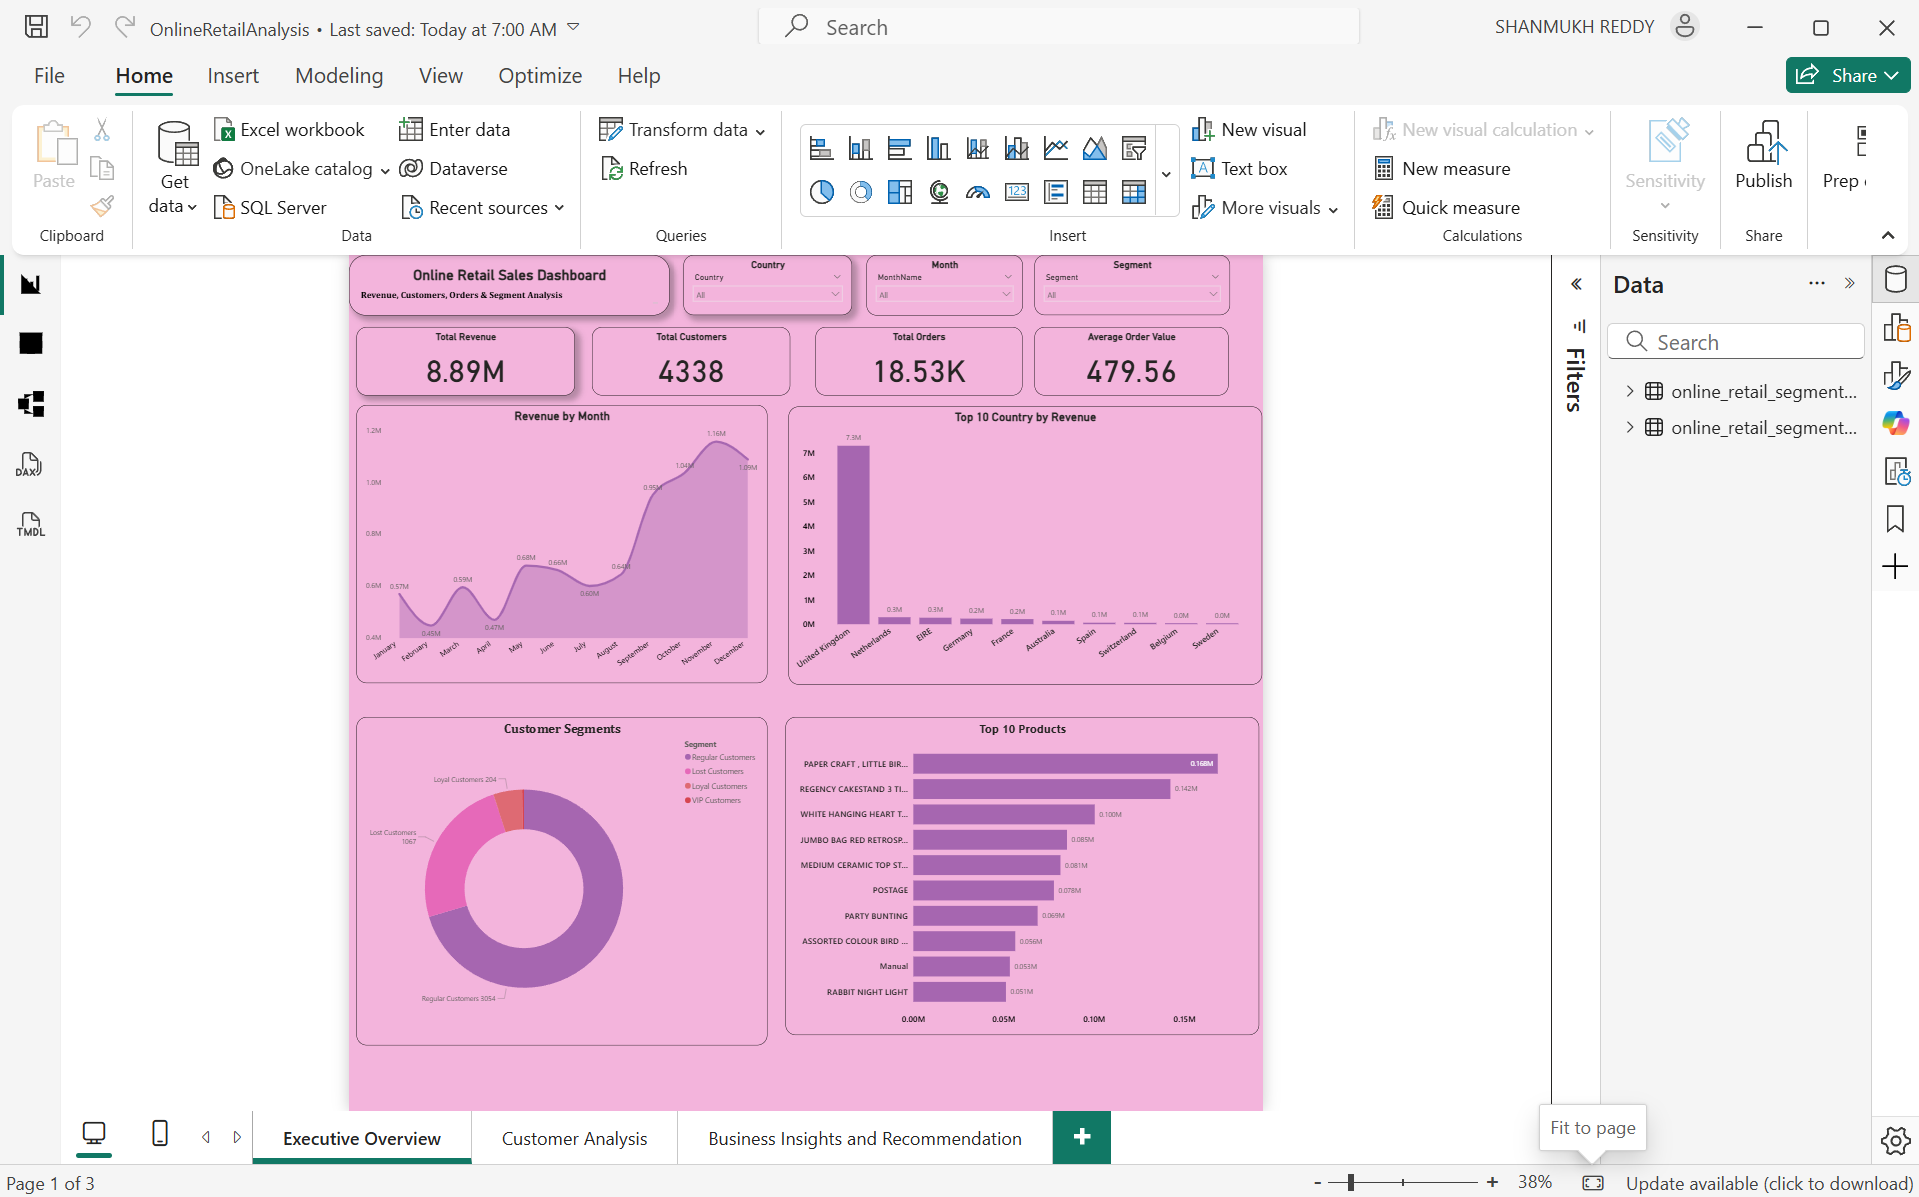

The dashboard page shown, as its layout file describes it:
{"tool":"powerbi","page":{"name":"Executive Overview","canvas":[1600,1500],"ordinal":0},"visuals":[{"type":"textbox","title":"Online Retail Sales Dashboard","box":[0,0,562,106],"z":0},{"type":"card","title":"Total Revenue","fields":{"Values":["Sum(online_retail_segmentation cleaned_retail_data.Revenue)"]},"box":[12.5,125,382.5,120],"z":1000},{"type":"card","title":"Total Customers","fields":{"Values":["Count(online_retail_segmentation cleaned_retail_data.CustomerID)"]},"box":[425,125,347.5,120],"z":2000},{"type":"card","title":"Total Orders","fields":{"Values":["Count(online_retail_segmentation cleaned_retail_data.InvoiceNo)"]},"box":[817.5,125,362.5,120],"z":3000},{"type":"card","title":"Average Order Value","fields":{"Values":["online_retail_segmentation cleaned_retail_data.Average Order Value"]},"box":[1200,125,340,120],"z":4000},{"type":"lineChart","title":"Revenue by Month","fields":{"Y":["Sum(online_retail_segmentation cleaned_retail_data.Revenue)"],"Category":["online_retail_segmentation cleaned_retail_data.MonthName"]},"box":[12.5,262.5,720,487.5],"z":5000},{"type":"clusteredColumnChart","title":"Top 10 Country by Revenue","fields":{"Category":["online_retail_segmentation cleaned_retail_data.Country"],"Y":["Sum(online_retail_segmentation cleaned_retail_data.Revenue)"]},"box":[770,265,830,487.5],"z":6000},{"type":"donutChart","title":"Customer Segments","fields":{"Y":["CountNonNull(online_retail_segmentation rfm_customer_segments.CustomerID)"],"Category":["online_retail_segmentation rfm_customer_segments.Segment"]},"box":[12.5,810,720,575],"z":7000},{"type":"clusteredBarChart","title":"Top 10 Products","fields":{"Y":["Sum(online_retail_segmentation cleaned_retail_data.Revenue)"],"Category":["online_retail_segmentation cleaned_retail_data.Description"]},"box":[765,810,830,557.5],"z":8000},{"type":"slicer","title":"Country","fields":{"Values":["online_retail_segmentation cleaned_retail_data.Country"]},"box":[585,0,295,105],"z":9000},{"type":"slicer","title":"Month ","fields":{"Values":["online_retail_segmentation cleaned_retail_data.MonthName"]},"box":[906,0,274,106],"z":10000},{"type":"slicer","title":"Segment","fields":{"Values":["online_retail_segmentation rfm_customer_segments.Segment"]},"box":[1200,0,342.5,105],"z":11000}]}

Visuals, with their boxes on the page's 1600x1500 design canvas (x1, y1, x2, y2). These are canvas units, not pixel positions in the 1919x1197 screenshot, which may show the page scaled, cropped or inside an application window:
"Online Retail Sales Dashboard" textbox: BBox(0, 0, 562, 106)
"Total Revenue" card: BBox(12, 125, 395, 245)
"Total Customers" card: BBox(425, 125, 772, 245)
"Total Orders" card: BBox(818, 125, 1180, 245)
"Average Order Value" card: BBox(1200, 125, 1540, 245)
"Revenue by Month" lineChart: BBox(12, 262, 732, 750)
"Top 10 Country by Revenue" clusteredColumnChart: BBox(770, 265, 1600, 752)
"Customer Segments" donutChart: BBox(12, 810, 732, 1385)
"Top 10 Products" clusteredBarChart: BBox(765, 810, 1595, 1368)
"Country" slicer: BBox(585, 0, 880, 105)
"Month " slicer: BBox(906, 0, 1180, 106)
"Segment" slicer: BBox(1200, 0, 1542, 105)
